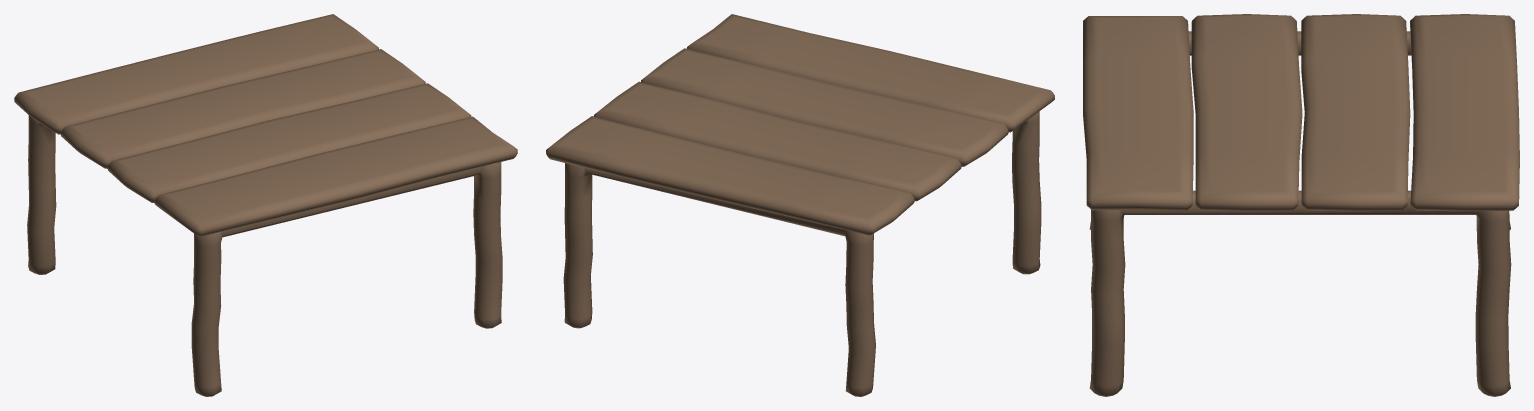
File: table-1.fbx
The picture shows the model from 3 angles, left to right: view 1: azimuth 30°, elevation 25°; view 2: azimuth 150°, elevation 25°; view 3: azimuth 270°, elevation 25°; orthographic projection. The views are drawn at different scales.
Visible parts, largest first — view 1: Plank.003, Plank, Plank.001, Plank.002, Frame; view 2: Plank, Plank.001, Plank.003, Plank.002, Frame; view 3: Plank.001, Plank.003, Plank, Plank.002, Frame.
Boxes of the visible parts, box(x1,y1,x2,y2) form: Plank.003: box(155, 116, 517, 236); Plank: box(14, 14, 378, 134); Plank.001: box(61, 49, 425, 168); Plank.002: box(108, 83, 471, 202); Frame: box(27, 115, 502, 396); Plank: box(546, 116, 914, 235); Plank.001: box(594, 81, 961, 201); Plank.003: box(687, 14, 1054, 132); Plank.002: box(641, 48, 1008, 166); Frame: box(563, 111, 1041, 396); Plank.001: box(1301, 14, 1410, 211); Plank.003: box(1083, 16, 1193, 210); Plank: box(1410, 14, 1519, 211); Plank.002: box(1191, 14, 1302, 211); Frame: box(1089, 31, 1511, 396).
Bounding box in the file's own units: 203 × 106 × 200.
